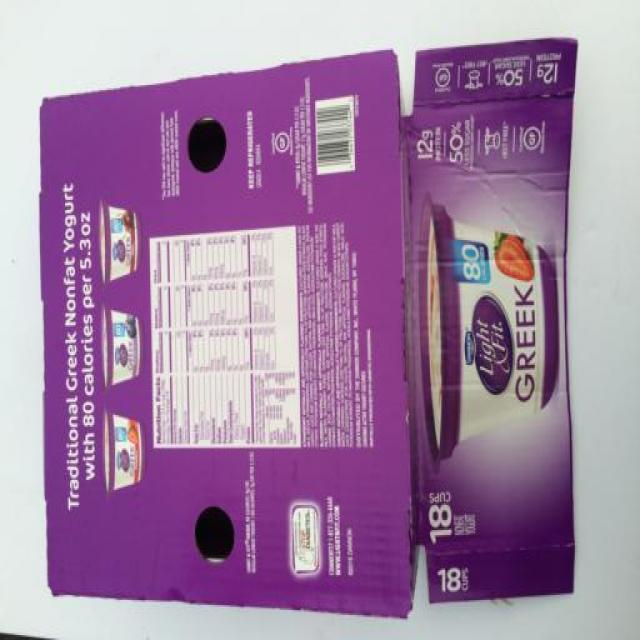cardboard: (34, 74, 610, 626), (402, 43, 591, 621)
